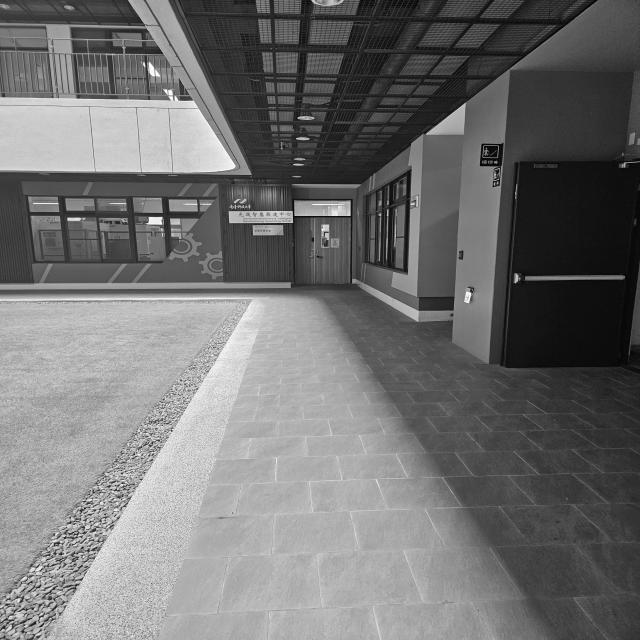Road-Object: (0, 285, 640, 640)
